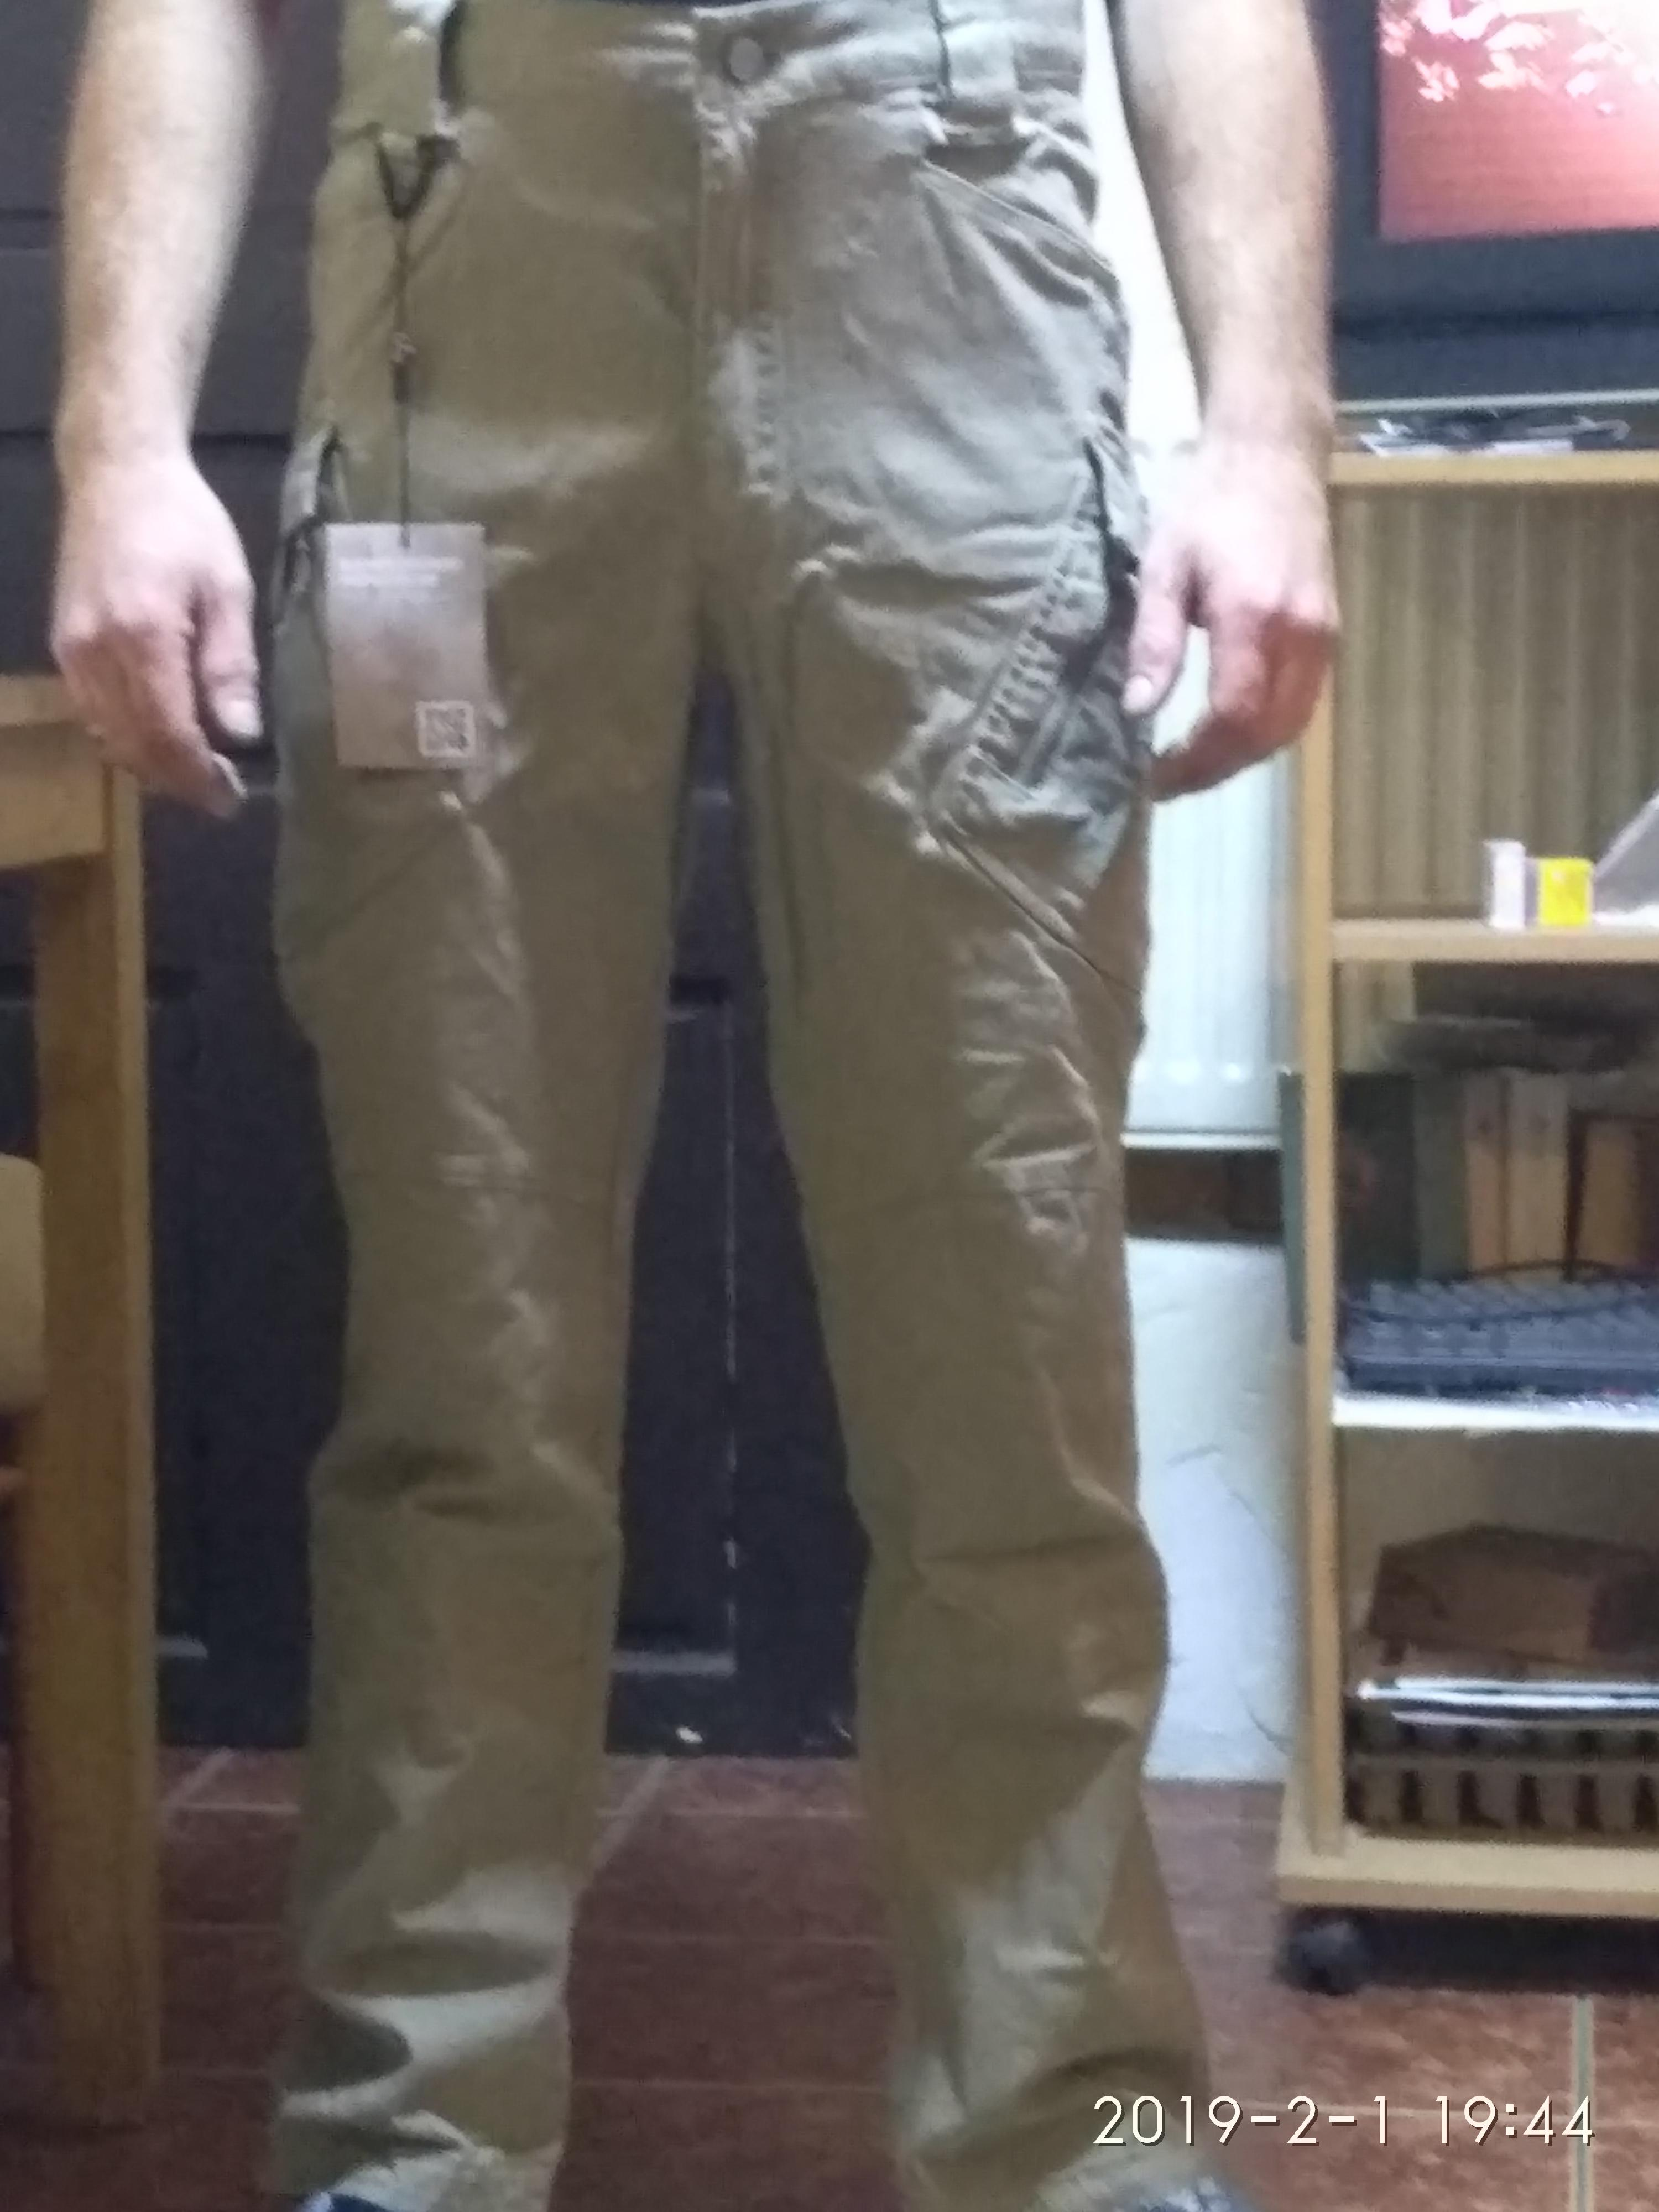pants: (274, 5, 1168, 2212)
